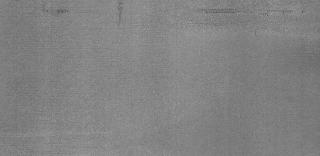inclusion: (194, 6, 308, 18), (52, 6, 70, 16)
water spot: (116, 2, 126, 28)
